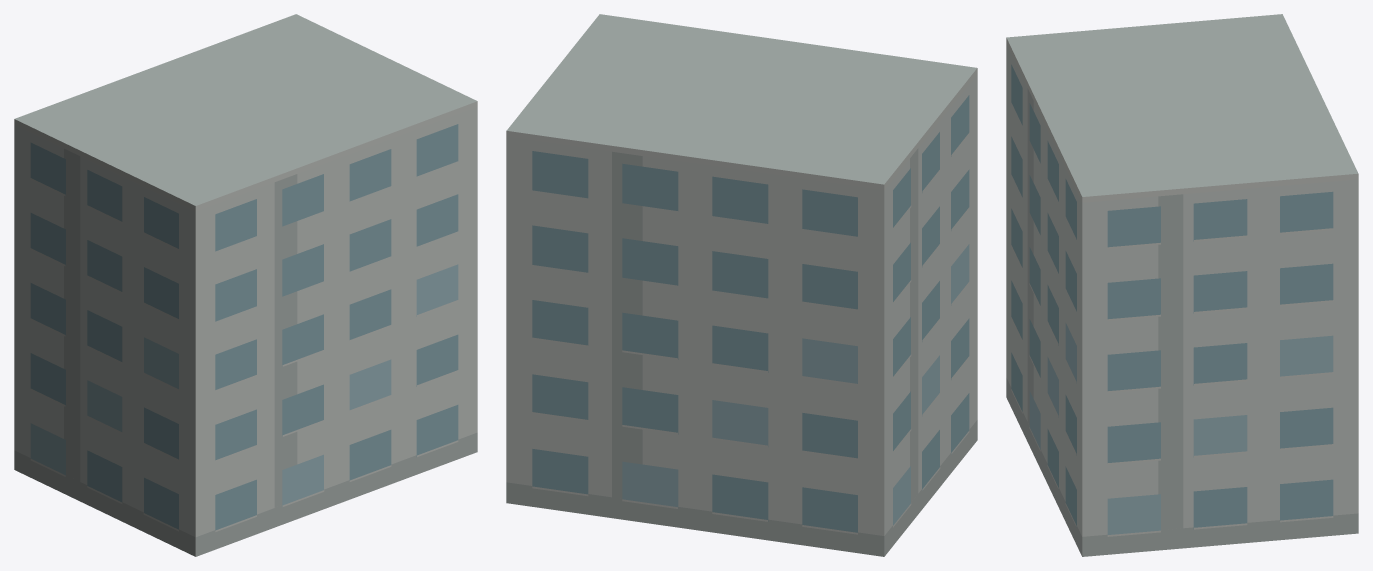
File: residential-450c80e9-546a-4039-b759-375f4327b474.glb
3 renders of one model, left to right at view 1: azimuth 30°, elevation 25°; view 2: azimuth 150°, elevation 25°; view 3: azimuth 270°, elevation 25°, orthographic. The views are drawn at different scales.
Parts seen in each view (by area): view 1: residential-450c80e9-546a-4039-b759-375f4327b474.tmp; view 2: residential-450c80e9-546a-4039-b759-375f4327b474.tmp; view 3: residential-450c80e9-546a-4039-b759-375f4327b474.tmp.
Part boxes in pixels (<box>): residential-450c80e9-546a-4039-b759-375f4327b474.tmp: <box>14,14,477,556</box>; residential-450c80e9-546a-4039-b759-375f4327b474.tmp: <box>506,14,977,556</box>; residential-450c80e9-546a-4039-b759-375f4327b474.tmp: <box>1006,14,1358,556</box>.
Bounding box in the file's own units: 16.65 × 15.25 × 13.54.
